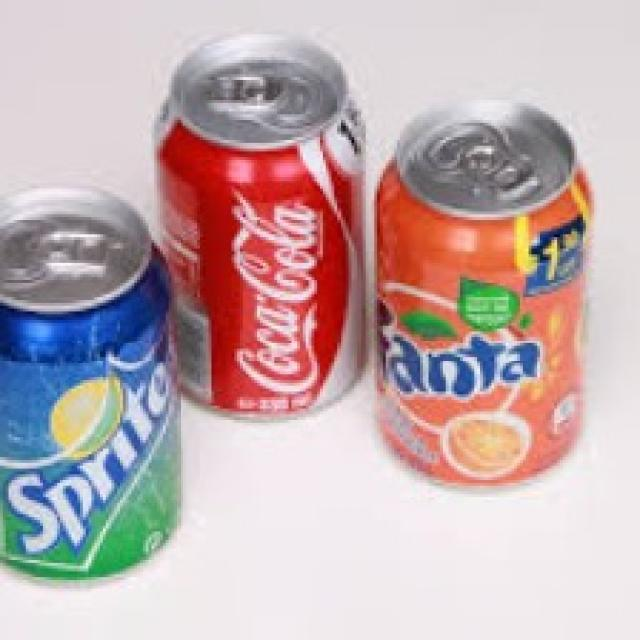metel: (374, 111, 587, 484), (156, 51, 378, 408), (1, 192, 183, 589)
